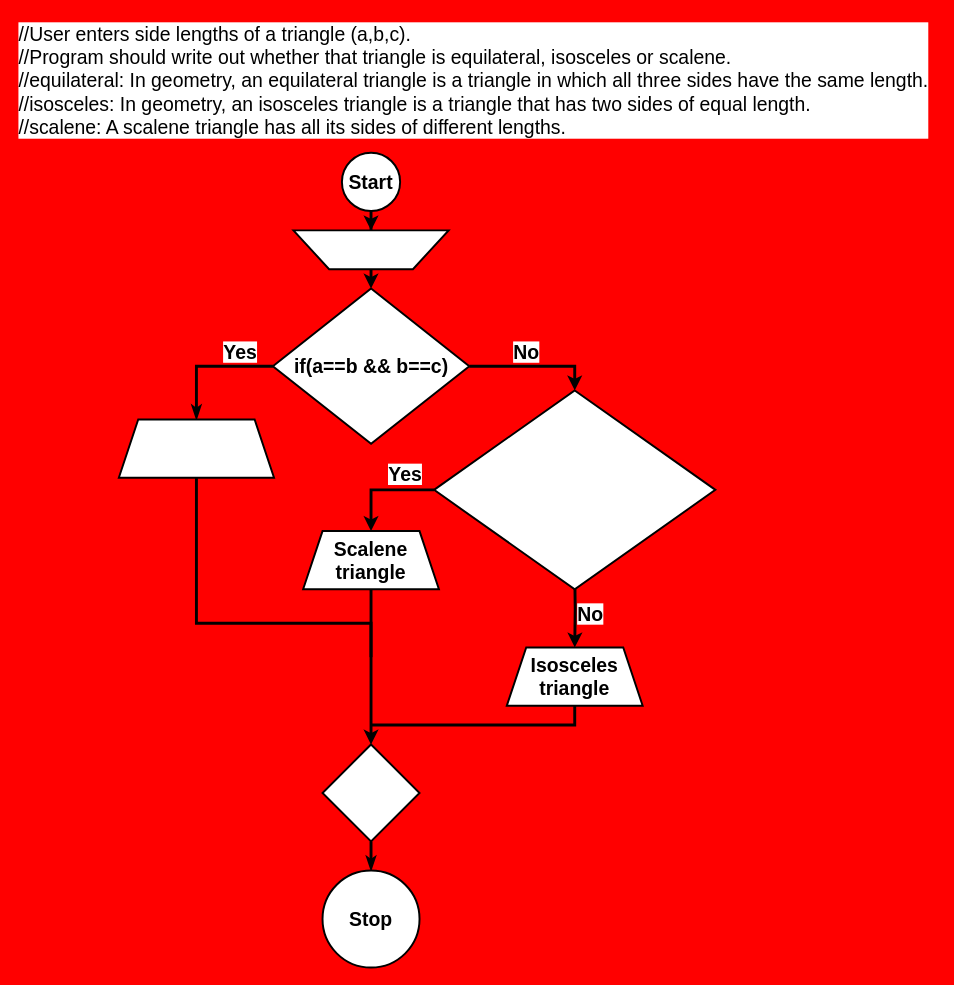
This 954x985 diagram has some shape labels left out. The box of each missing label's shape, as (x1, y1, x2, y2) in pixels:
Equilateral triangle: (117, 418, 275, 478)
float a,b,c: (292, 229, 449, 270)
if(a!=b && a!=c && b!=c): (433, 389, 716, 590)
